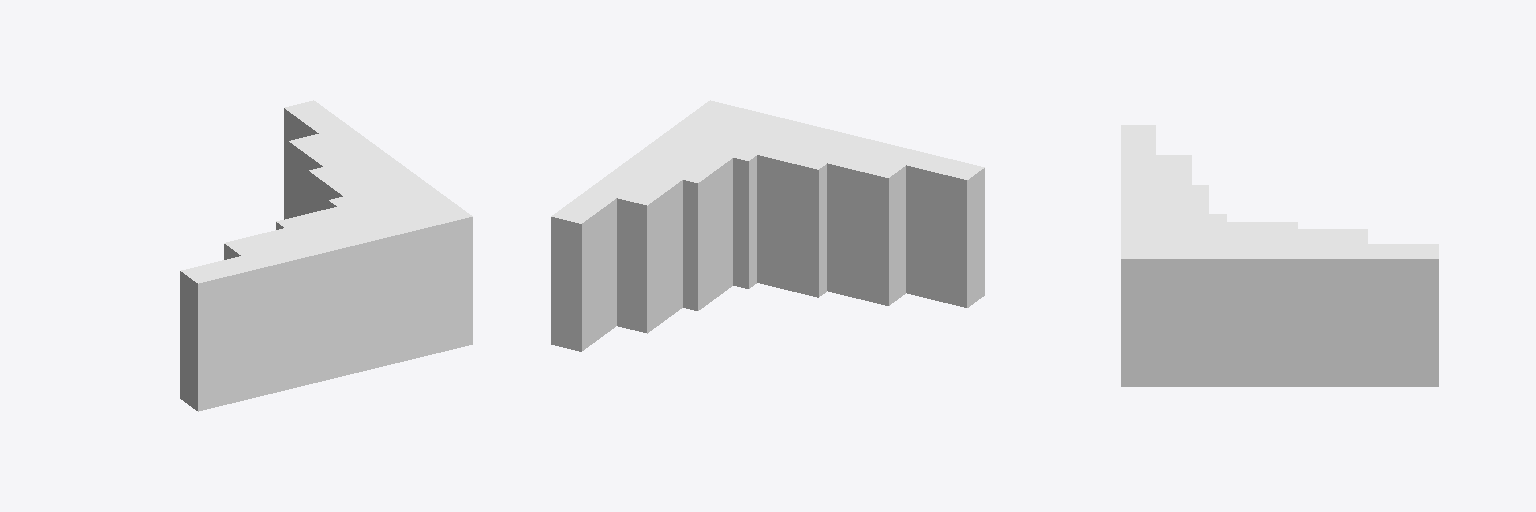
File: StageAreaCorner.obj
3 views of the same model, side by side, from view 1: azimuth 30°, elevation 25°; view 2: azimuth 150°, elevation 25°; view 3: azimuth 270°, elevation 25° (orthographic).
Visible parts, largest first — view 1: object 1; view 2: object 1; view 3: object 1.
Boxes of the visible parts, box(x1,y1,x2,y2) form: object 1: box(180, 100, 472, 411); object 1: box(551, 100, 984, 351); object 1: box(1121, 125, 1438, 386).
Bounding box in the file's own units: 9 × 4 × 9.